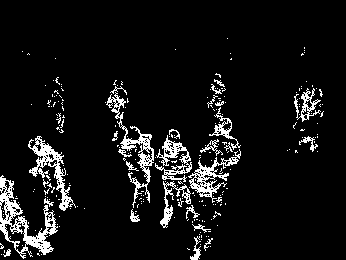person: (27, 135, 75, 237), (192, 148, 224, 259), (158, 127, 192, 230), (120, 125, 152, 222), (295, 80, 325, 152), (207, 120, 242, 166), (106, 77, 128, 143), (208, 71, 228, 119)
